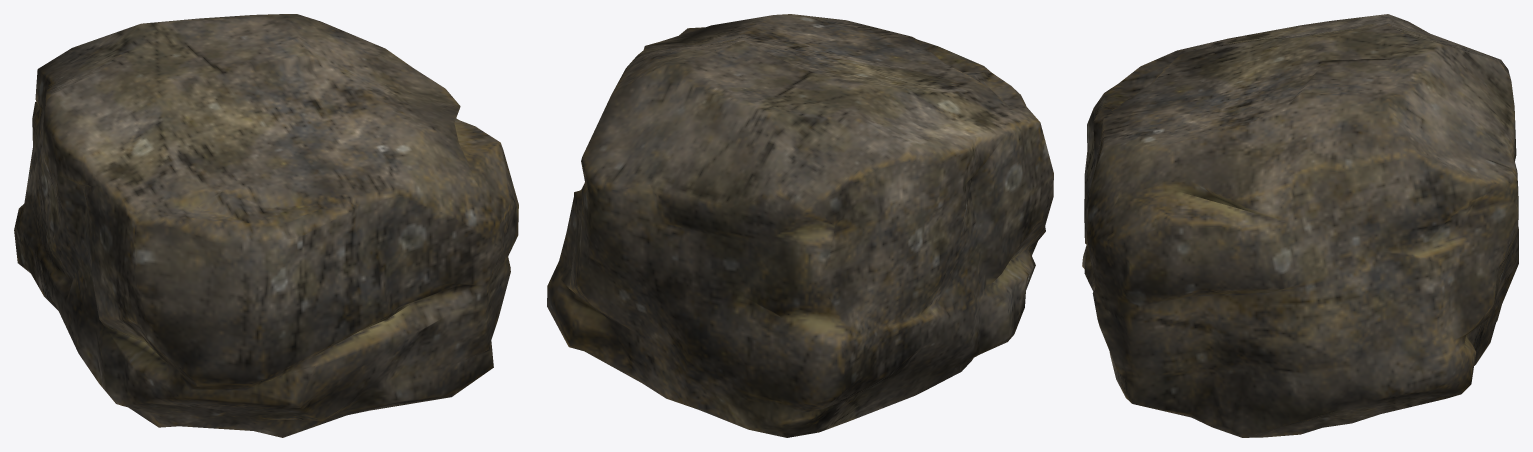
File: Rock_8.fbx
3 renders of one model, left to right at view 1: azimuth 30°, elevation 25°; view 2: azimuth 150°, elevation 25°; view 3: azimuth 270°, elevation 25°, orthographic. The views are drawn at different scales.
Visible parts, largest first — view 1: Rock_8_Baked; view 2: Rock_8_Baked; view 3: Rock_8_Baked.
Boxes of the visible parts, x1,y1,x2,y2 form: Rock_8_Baked: [14, 14, 518, 437]; Rock_8_Baked: [547, 14, 1053, 437]; Rock_8_Baked: [1082, 14, 1518, 437].
Bounding box in the file's own units: 3.07 × 3.18 × 2.55.
Materials: 1 (1 with a texture image).
